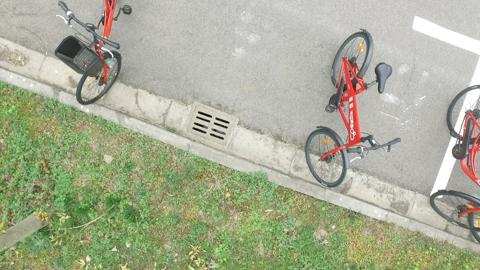bike: (286, 41, 397, 192), (50, 5, 139, 107), (442, 83, 480, 217)
